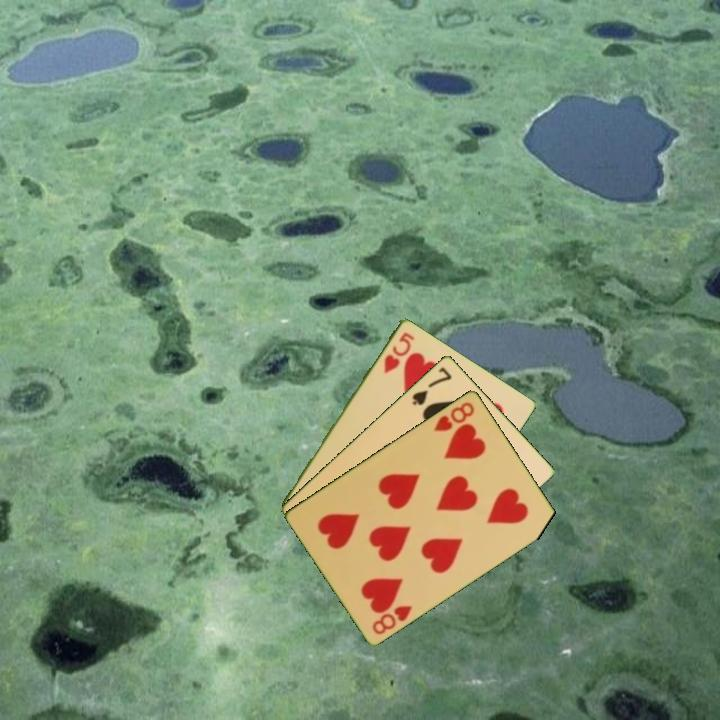5h: (380, 328, 417, 376)
7s: (408, 363, 455, 408)
8h: (430, 398, 478, 434), (369, 601, 416, 637)
